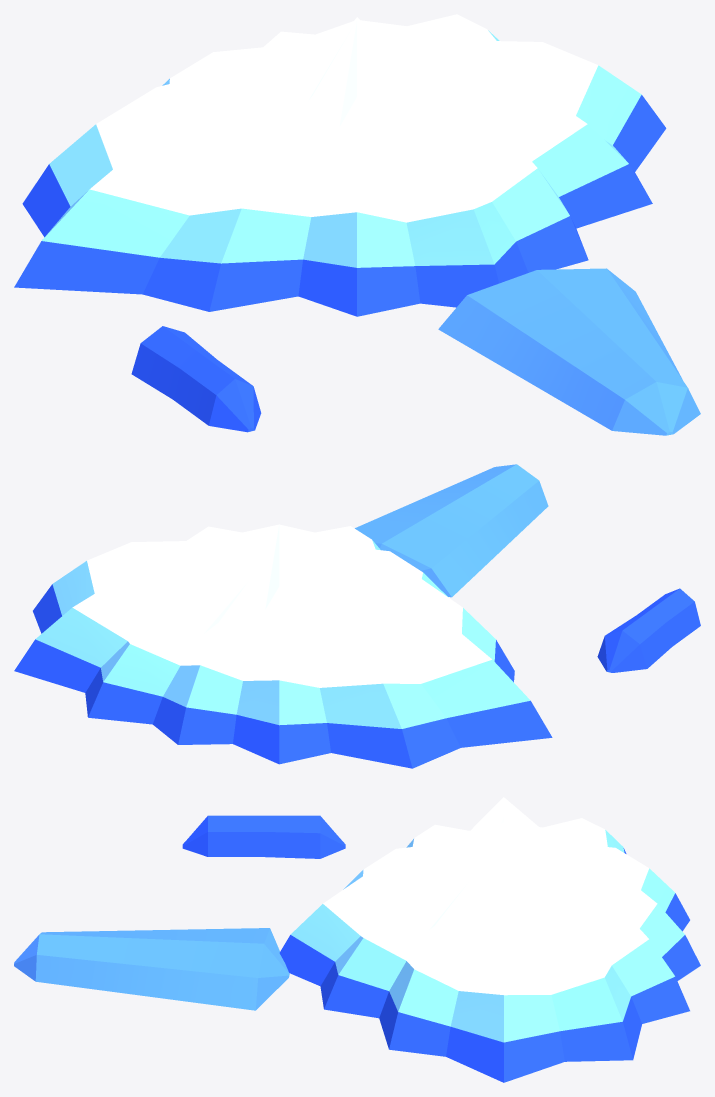
Rendered from shot_ice_137.glb.
3 views of the same model, one above another, from view 1: azimuth 30°, elevation 25°; view 2: azimuth 150°, elevation 25°; view 3: azimuth 270°, elevation 25° (orthographic). The views are drawn at different scales.
Visible parts, largest first — view 1: shot_ice_137_cap, shot_ice_137_trail; view 2: shot_ice_137_cap, shot_ice_137_trail; view 3: shot_ice_137_cap, shot_ice_137_trail.
Boxes of the visible parts, x1,y1,x2,y2 form: shot_ice_137_cap: [14, 14, 666, 316]; shot_ice_137_trail: [131, 268, 700, 435]; shot_ice_137_cap: [14, 524, 552, 768]; shot_ice_137_trail: [355, 464, 700, 672]; shot_ice_137_cap: [279, 797, 700, 1082]; shot_ice_137_trail: [14, 815, 345, 1010].
Bounding box in the file's own units: 10.43 × 2.81 × 12.23.
